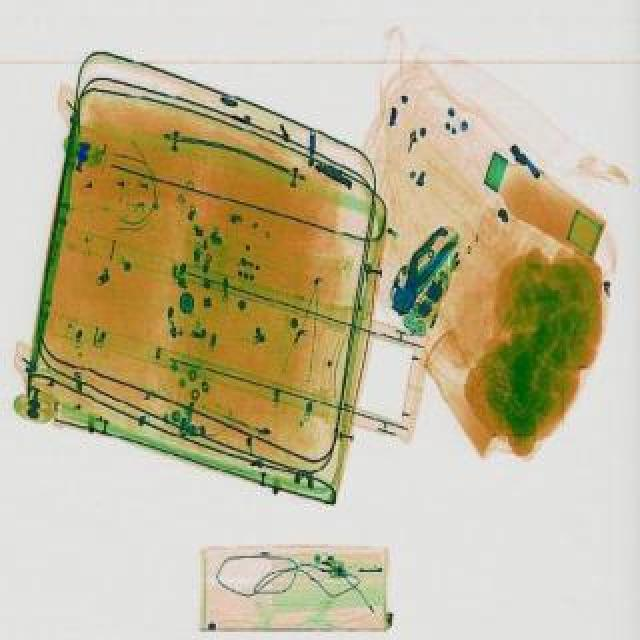wrench: (380, 218, 464, 316)
